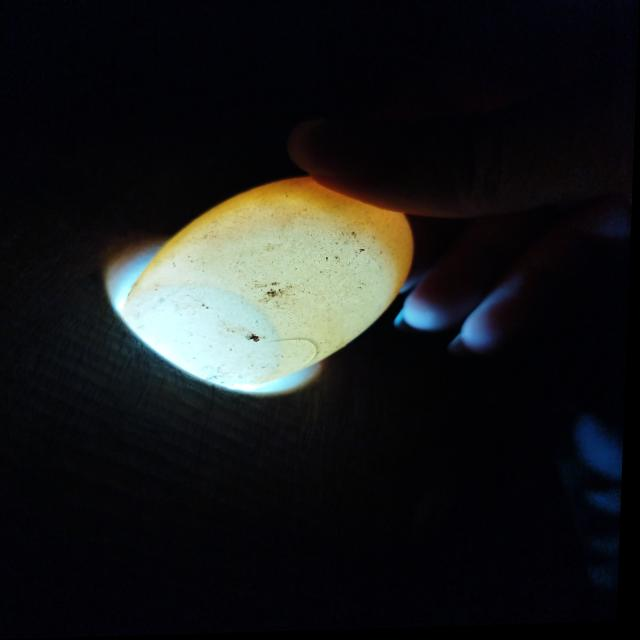Camara de Ar: (131, 290, 285, 390)
Rachadura: (274, 339, 323, 375)
